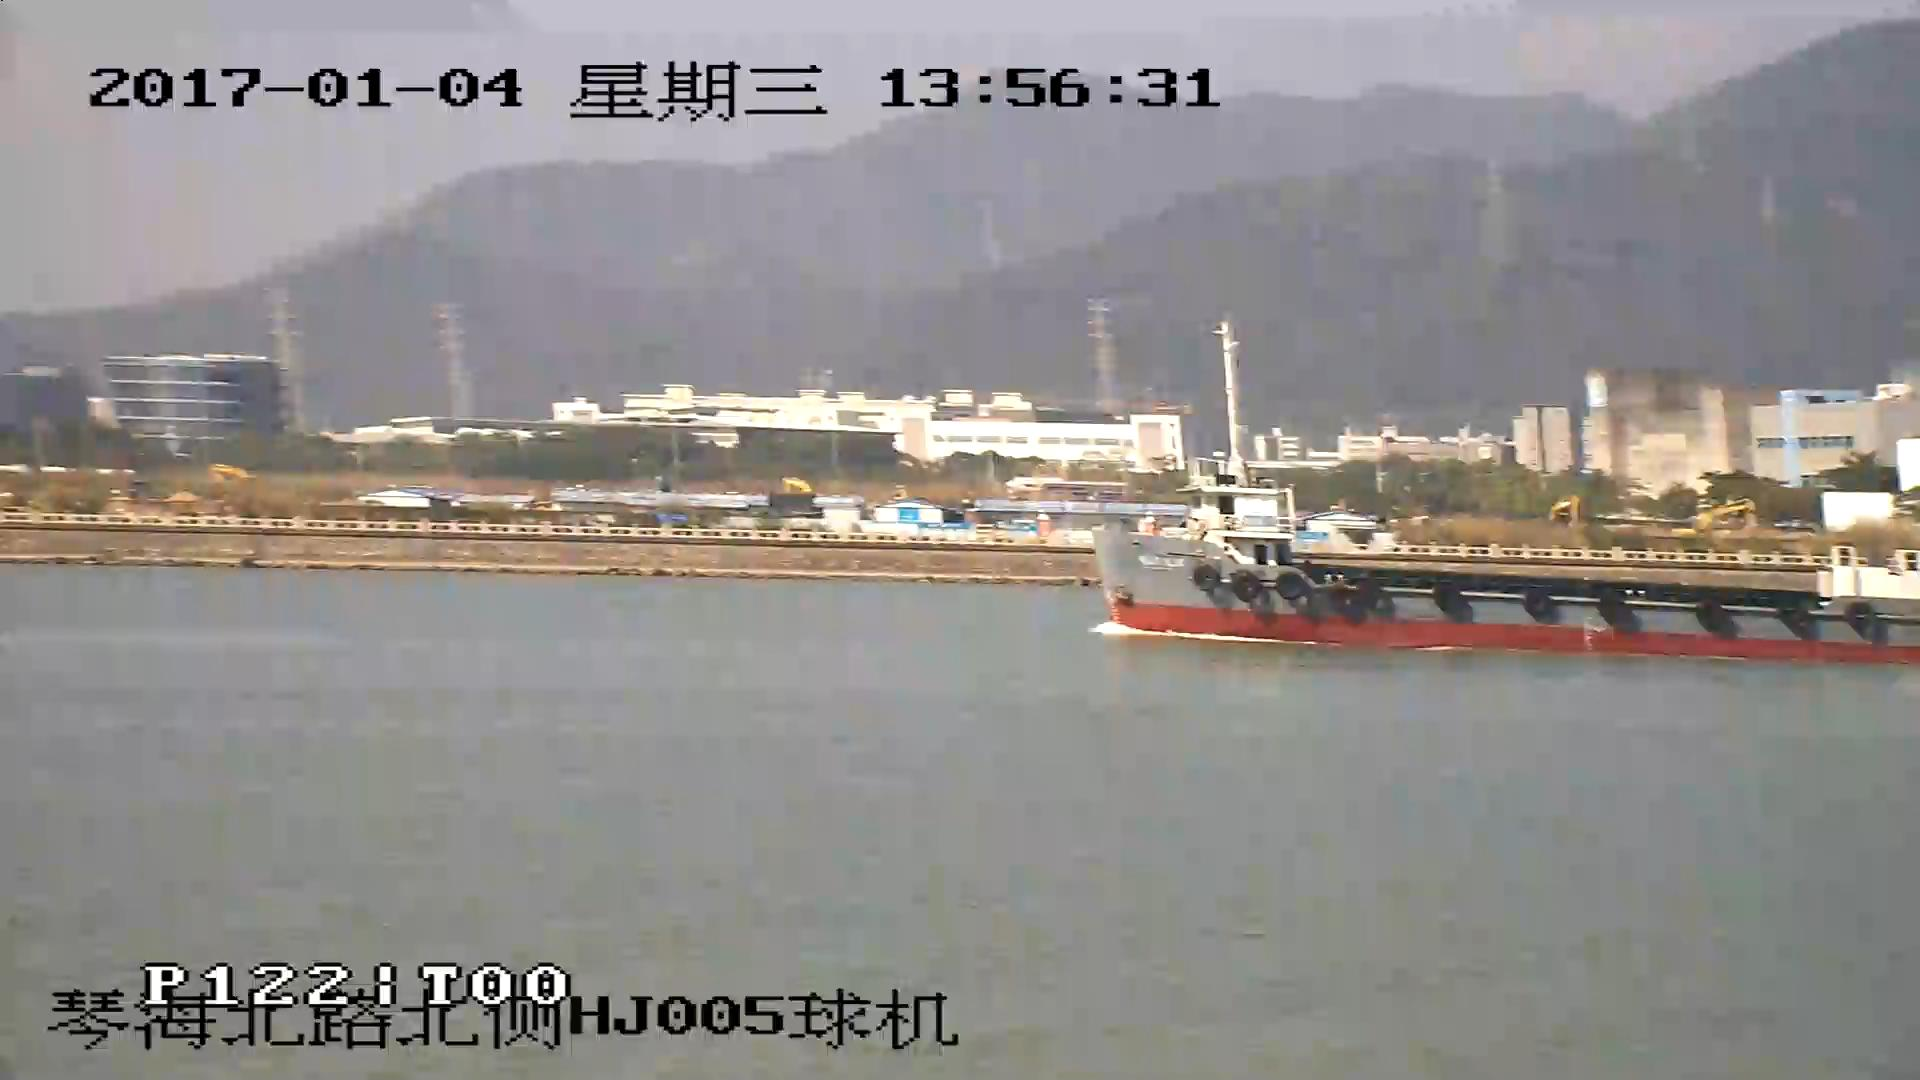general cargo ship: (1099, 512, 1920, 667)
